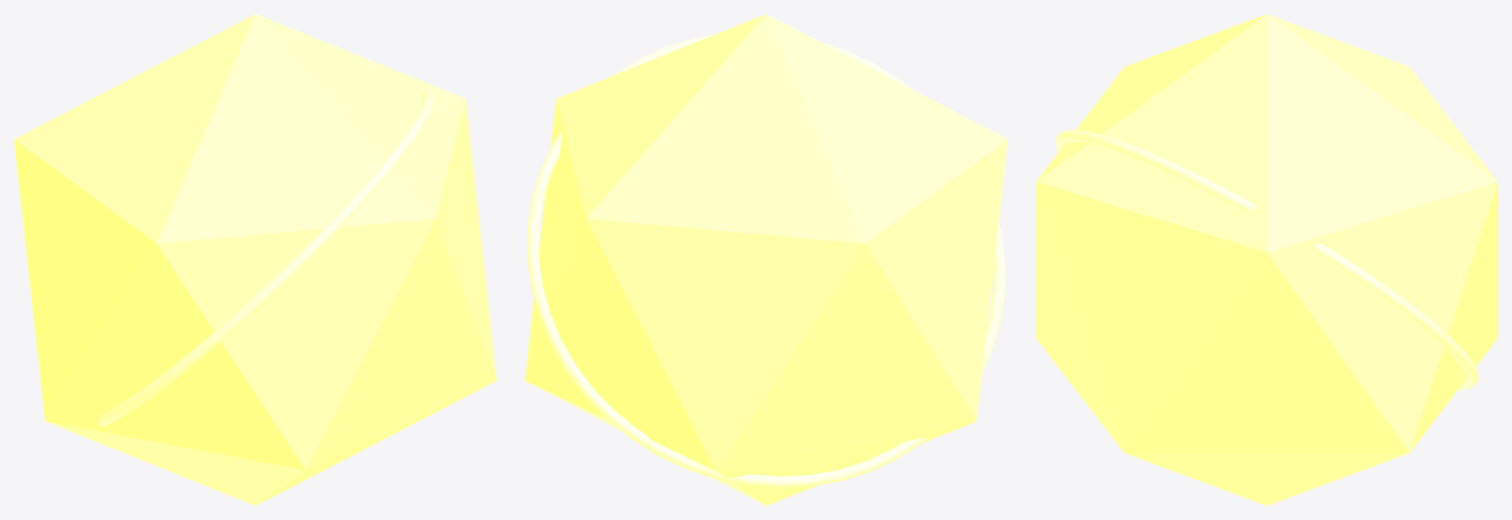
The model's file is seed_artifact.glb.
3 renders of one model, left to right at view 1: azimuth 30°, elevation 25°; view 2: azimuth 150°, elevation 25°; view 3: azimuth 270°, elevation 25°, orthographic.
Parts seen in each view (by area): view 1: OuterCage, GyroRing_3; view 2: OuterCage, GyroRing_3; view 3: OuterCage, GyroRing_3.
Boxes of the visible parts, x1,y1,x2,y2 form: OuterCage: (14,14,496,505); GyroRing_3: (98,89,434,425); OuterCage: (525,14,1007,505); GyroRing_3: (527,35,1005,487); OuterCage: (1036,14,1497,505); GyroRing_3: (1055,130,1478,389).
Size of the model in its own units: 5.72 by 6.4 by 5.44.
